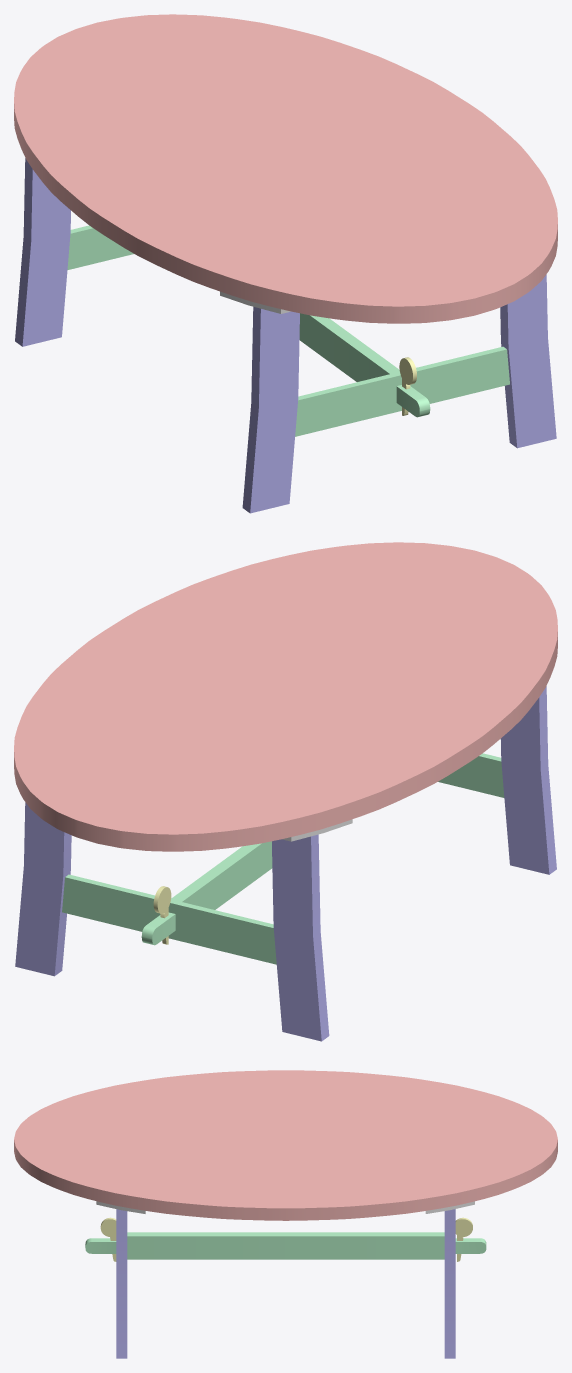
File: table.glb
3 renders of one model, top to bottom at view 1: azimuth 30°, elevation 25°; view 2: azimuth 150°, elevation 25°; view 3: azimuth 270°, elevation 25°, orthographic. The views are drawn at different scales.
Visible parts, largest first — view 1: Ellipse001, Box003, Box004, Box005; view 2: Ellipse001, Box003, Box004, Box005; view 3: Ellipse001, Box005, Box003, Line001, Box002.
Part boxes in pixels (x1,y1,x2,y2): Ellipse001: (14,14,557,323); Box003: (15,158,556,513); Box004: (67,225,509,436); Box005: (299,313,430,417); Ellipse001: (14,542,557,851); Box003: (15,686,556,1041); Box004: (62,753,504,964); Box005: (141,841,272,945); Ellipse001: (14,1070,557,1220); Box005: (85,1232,486,1259); Box003: (116,1209,455,1358); Line001: (100,1217,472,1261); Box002: (96,1201,474,1213).
Size of the model in its own units: 0.5978 by 0.3337 by 0.994.
